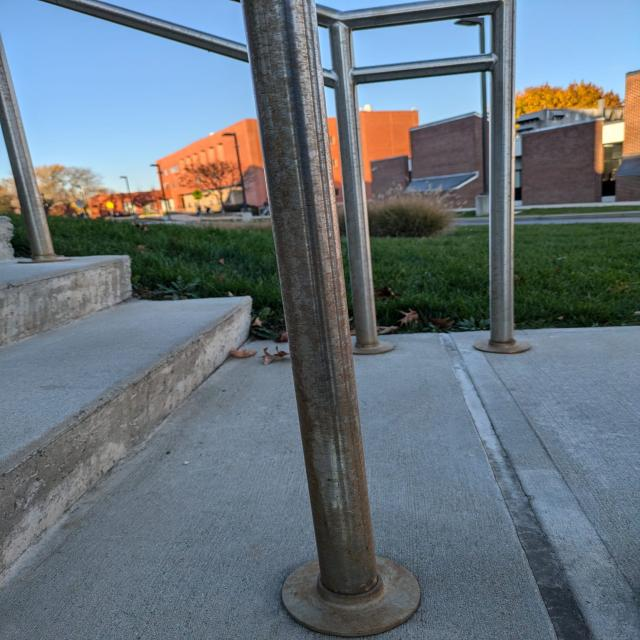Uniform Corrosion: (243, 1, 425, 638), (1, 58, 65, 255)
